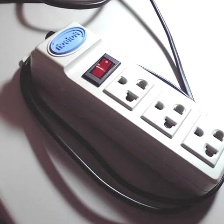three_eye_plug: (24, 18, 224, 201)
